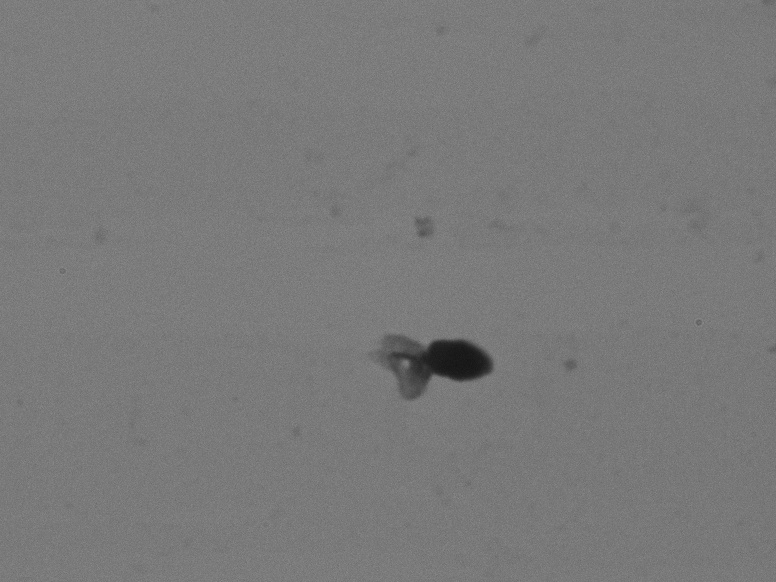Abnormal: (316, 276, 546, 445)
